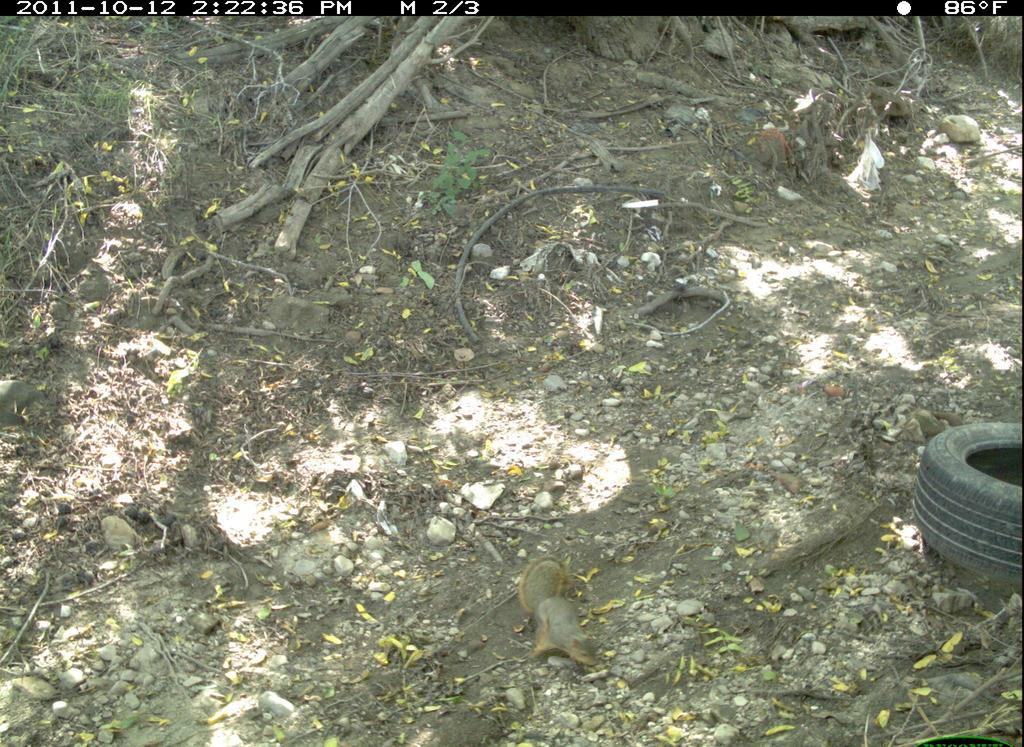squirrel: (504, 546, 621, 675)
